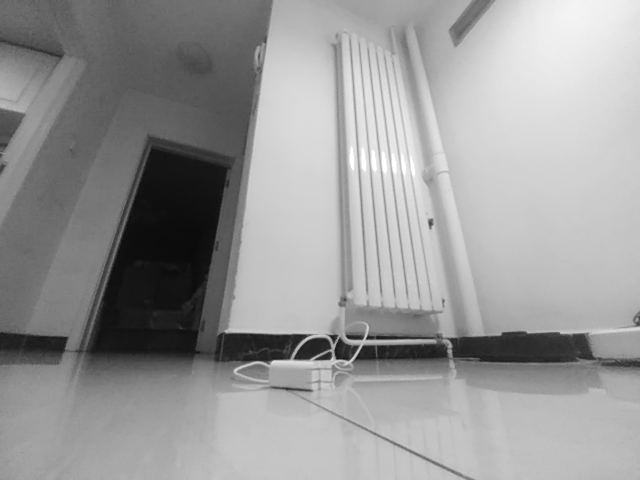wire: (233, 320, 370, 388)
